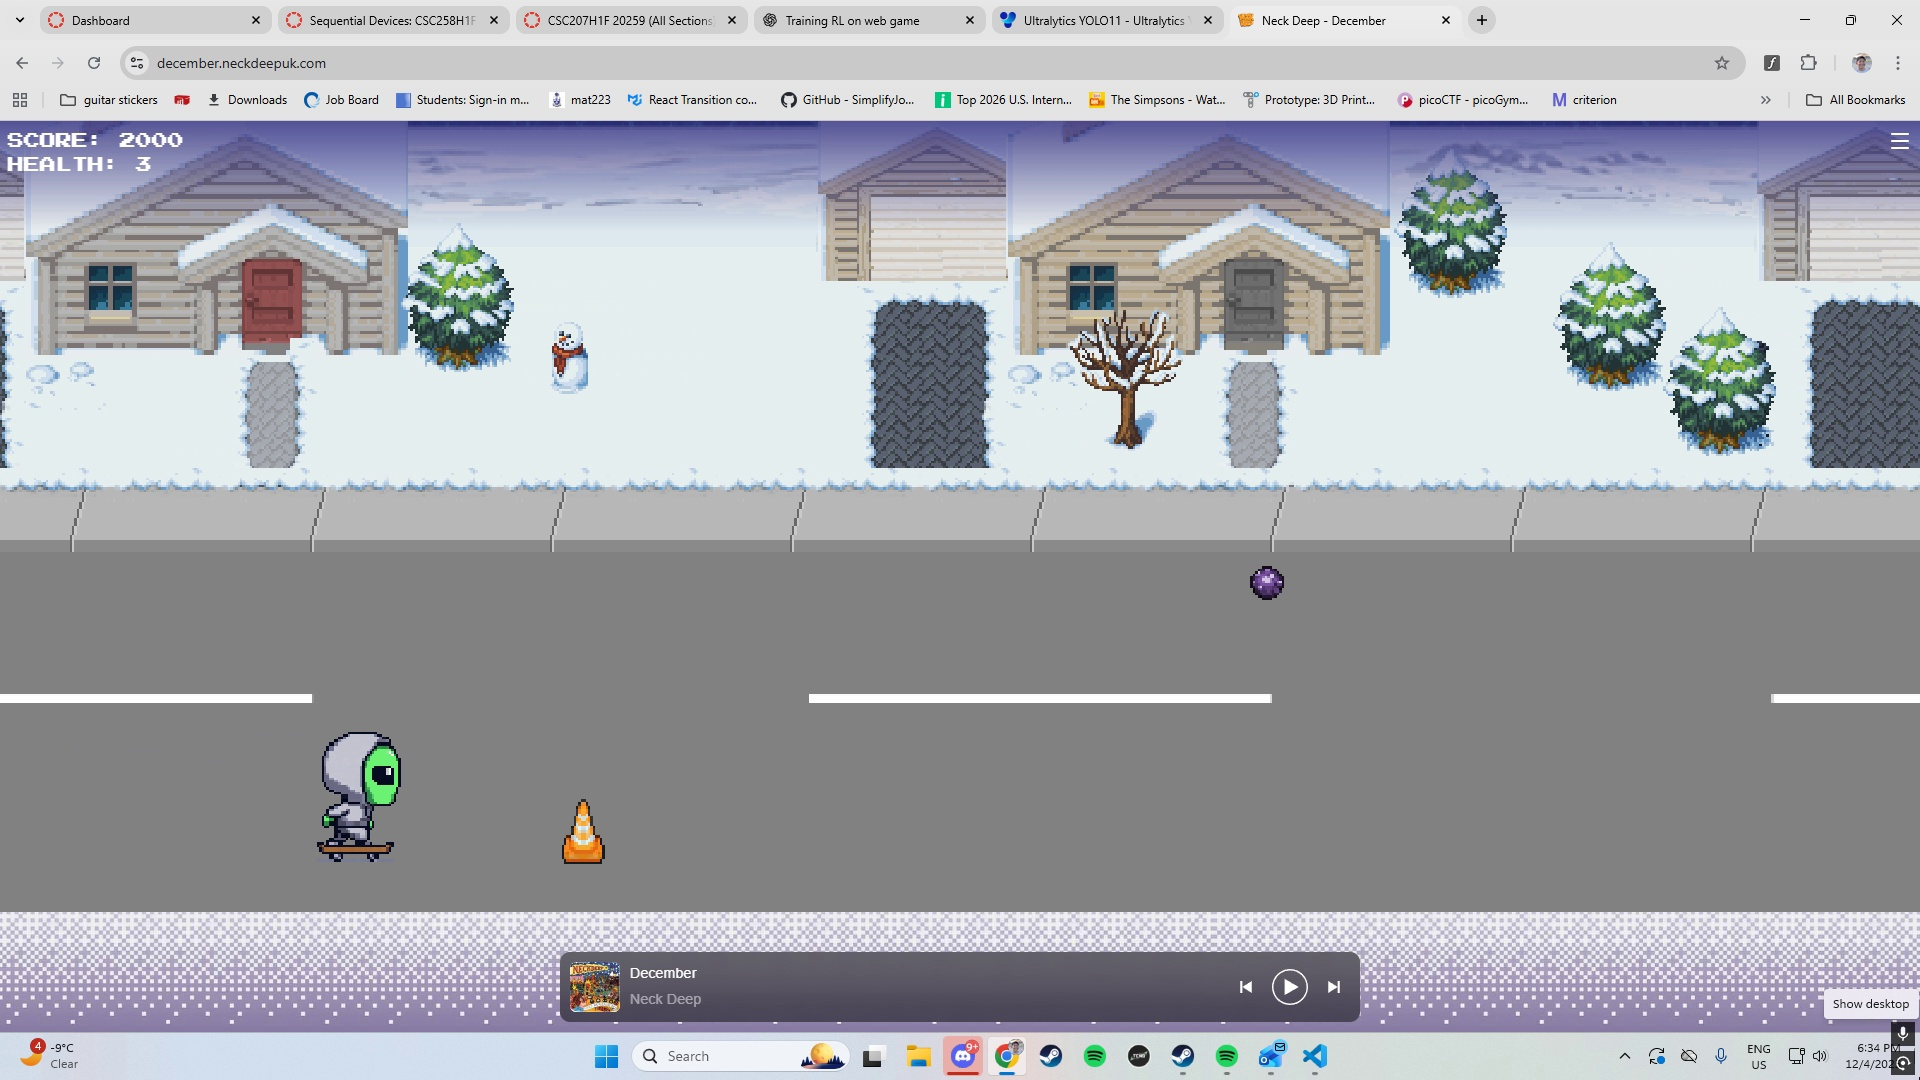Ball: (1246, 560, 1293, 604)
Cone: (561, 792, 609, 869)
Player: (307, 715, 414, 866)
